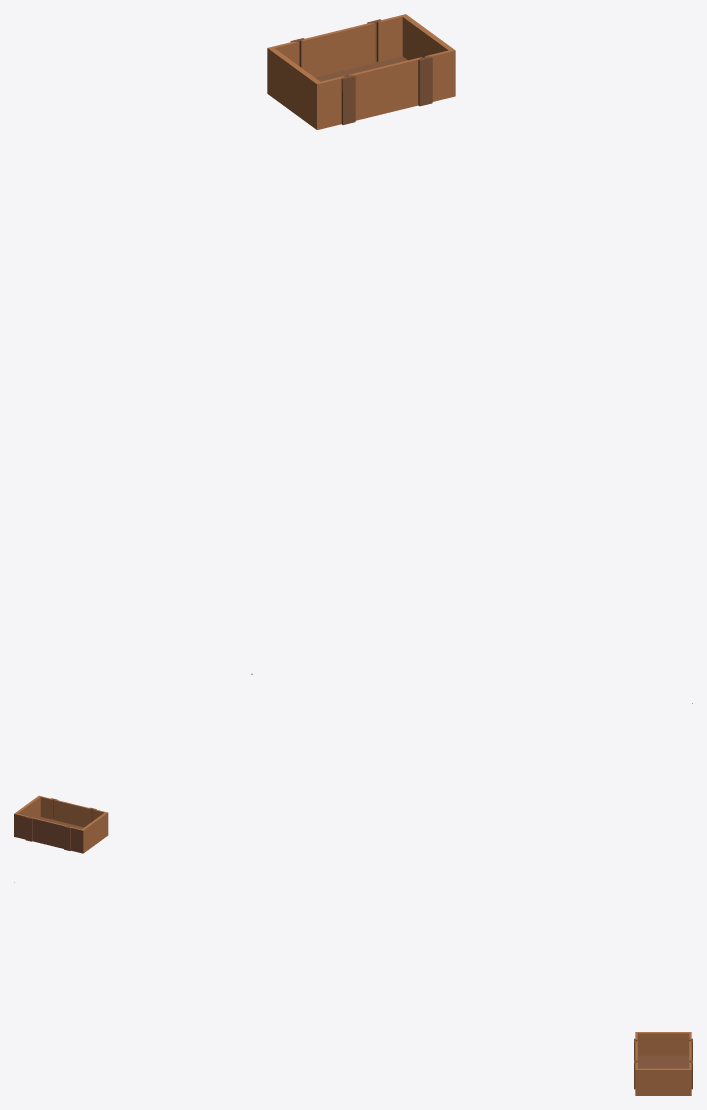
Rendered from Prop_Chest_But.fbx.
3 renders of one model, top to bottom at view 1: azimuth 30°, elevation 25°; view 2: azimuth 150°, elevation 25°; view 3: azimuth 270°, elevation 25°, orthographic. The views are drawn at different scales.
Parts seen in each view (by area): view 1: Prop_Chest_But; view 2: Prop_Chest_But; view 3: Prop_Chest_But.
Boxes of the visible parts, left/top/right/bottom form: Prop_Chest_But: left=267, top=14, right=455, bottom=129; Prop_Chest_But: left=14, top=795, right=108, bottom=853; Prop_Chest_But: left=634, top=1032, right=692, bottom=1095.
Bounding box in the file's own units: 546 × 31.6 × 753.
